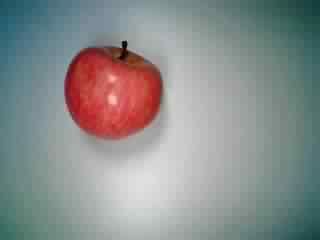apple: (62, 41, 166, 141)
